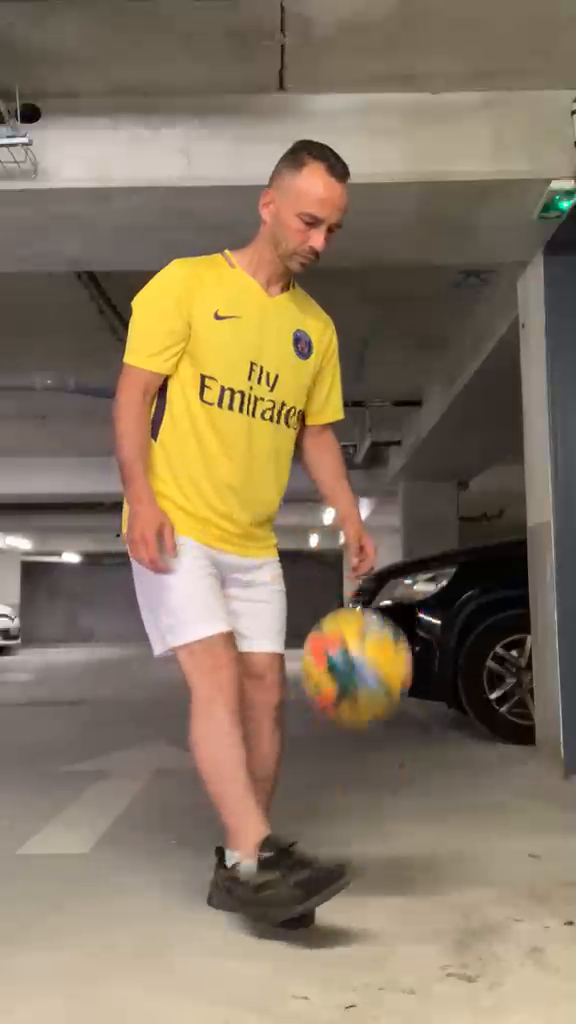ball: (297, 606, 417, 726)
